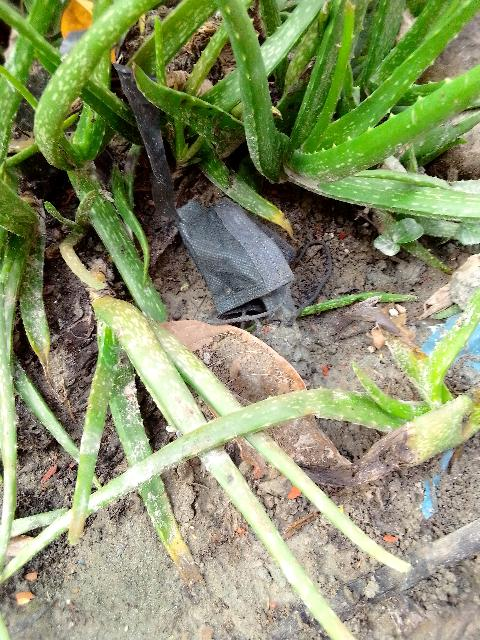mask: (169, 171, 279, 317)
